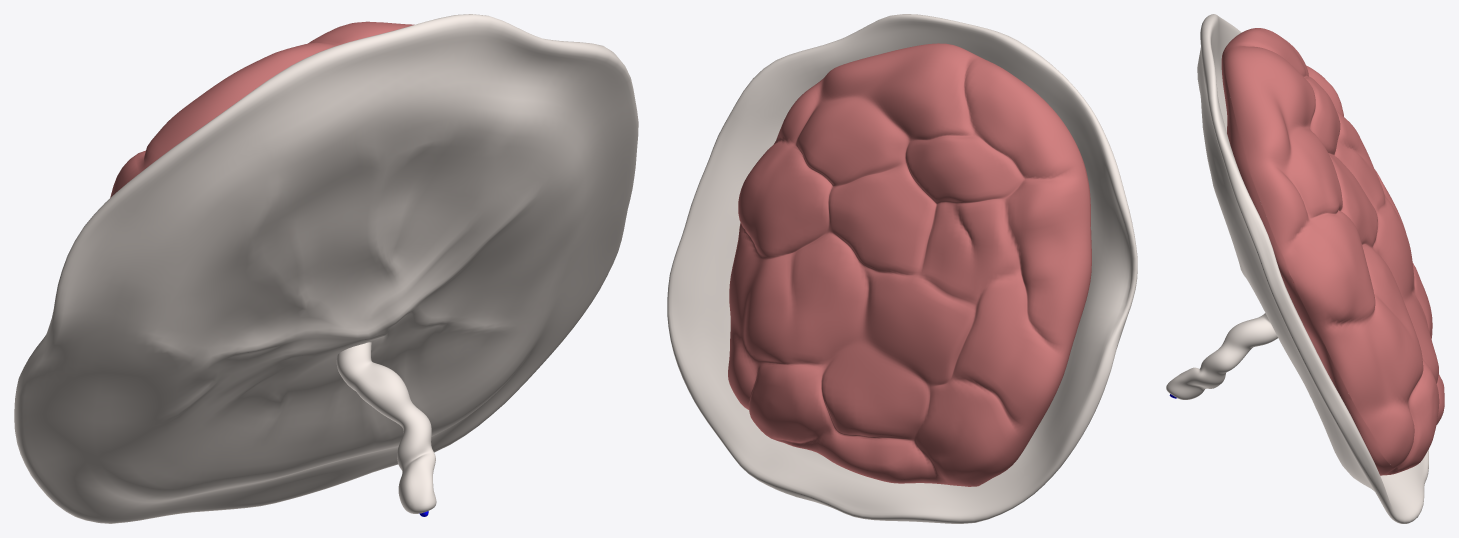
Rendered from hra-placenta-female-v1.glb.
3 views of the same model, side by side, from view 1: azimuth 30°, elevation 25°; view 2: azimuth 150°, elevation 25°; view 3: azimuth 270°, elevation 25° (orthographic). The views are drawn at different scales.
Parts seen in each view (by area): view 1: VH_F_amnion, VH_F_basal_plate, VH_F_umbilical_cord; view 2: VH_F_basal_plate, VH_F_amnion; view 3: VH_F_basal_plate, VH_F_amnion, VH_F_chorionic_plate, VH_F_umbilical_cord.
Boxes of the visible parts, x1=… form: VH_F_amnion: x1=14, y1=14, x2=638, y2=523; VH_F_basal_plate: x1=110, y1=21, x2=414, y2=197; VH_F_umbilical_cord: x1=336, y1=342, x2=436, y2=513; VH_F_basal_plate: x1=728, y1=43, x2=1090, y2=486; VH_F_amnion: x1=667, y1=14, x2=1137, y2=523; VH_F_basal_plate: x1=1224, y1=28, x2=1444, y2=471; VH_F_amnion: x1=1197, y1=14, x2=1428, y2=523; VH_F_chorionic_plate: x1=1221, y1=46, x2=1400, y2=475; VH_F_umbilical_cord: x1=1166, y1=313, x2=1277, y2=399.
Size of the model in its own units: 0.2509 by 0.2305 by 0.1338.
